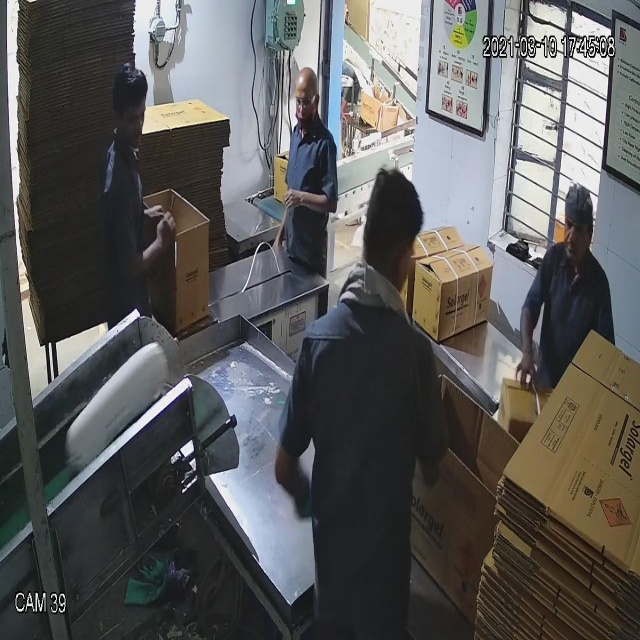Sin_guantes: (126, 210, 185, 291), (277, 175, 338, 235), (509, 301, 546, 397)
